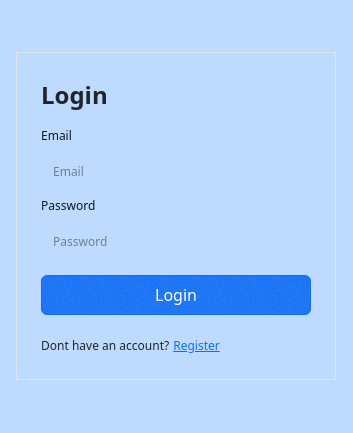
Test: Login Component › shows error message on failed login
Type "wrong@example.com" into the field with placeholder "Email" at (176,171), box [41,151,311,191]
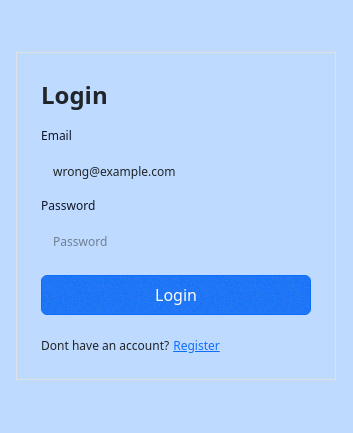
Type "wrongpass" into the password field with placeholder "Password" at (176,241), box [41,221,311,261]
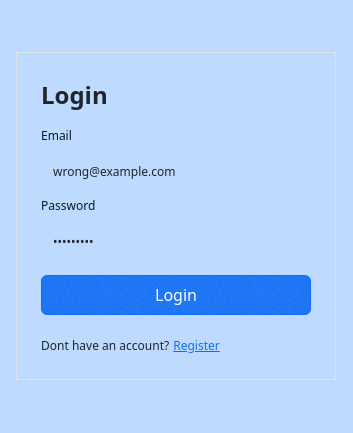
Click the button "Login" at (176,295), box [41,275,311,315]
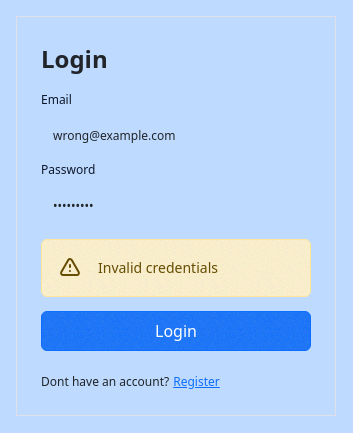
Expected: the message reads "Invalid credentials", [98,258,218,277]
